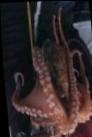Cephalopod: (9, 6, 92, 137)
